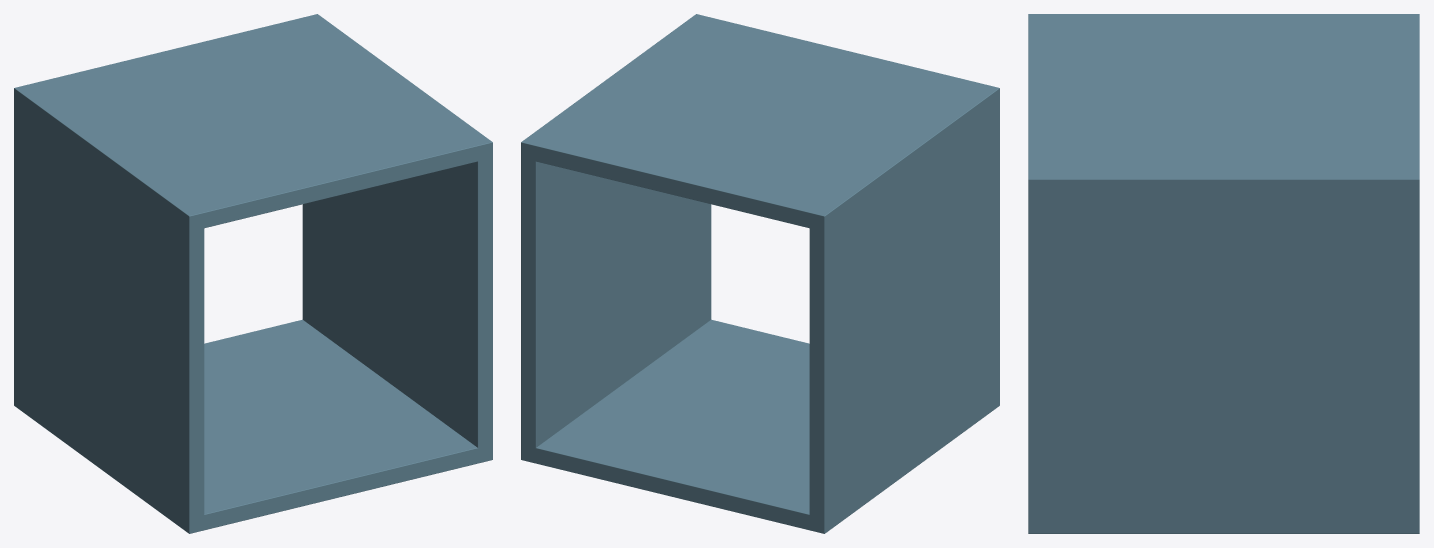
Rendered from MOD-1X1-A-O-AC.glb.
3 views of the same model, side by side, from view 1: azimuth 30°, elevation 25°; view 2: azimuth 150°, elevation 25°; view 3: azimuth 270°, elevation 25° (orthographic). The views are drawn at different scales.
Bounding box in the file's own units: 360 × 360 × 360.
